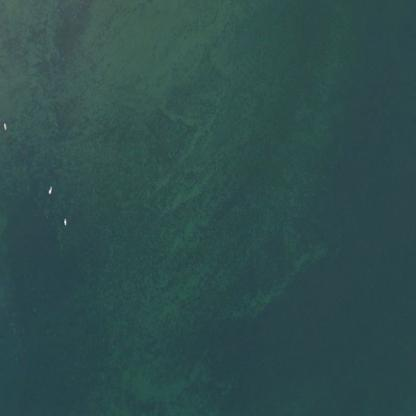ship: (43, 179, 55, 197), (58, 213, 72, 227), (0, 116, 10, 133)
